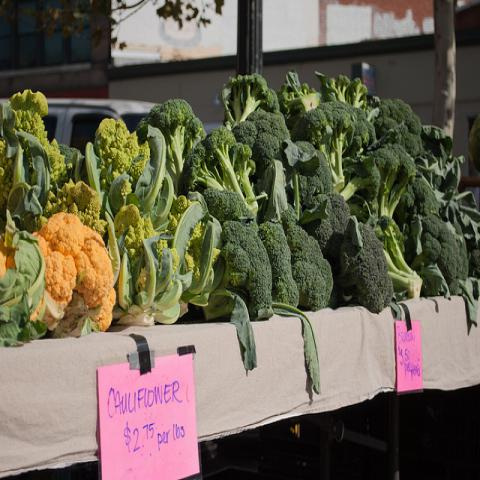truck: (44, 96, 162, 156)
